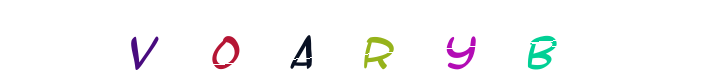0: (191, 0, 271, 80)
A: (314, 0, 394, 80)
B: (500, 0, 580, 80)
R: (338, 0, 418, 80)
V: (186, 0, 266, 80)
Y: (353, 0, 433, 80)
